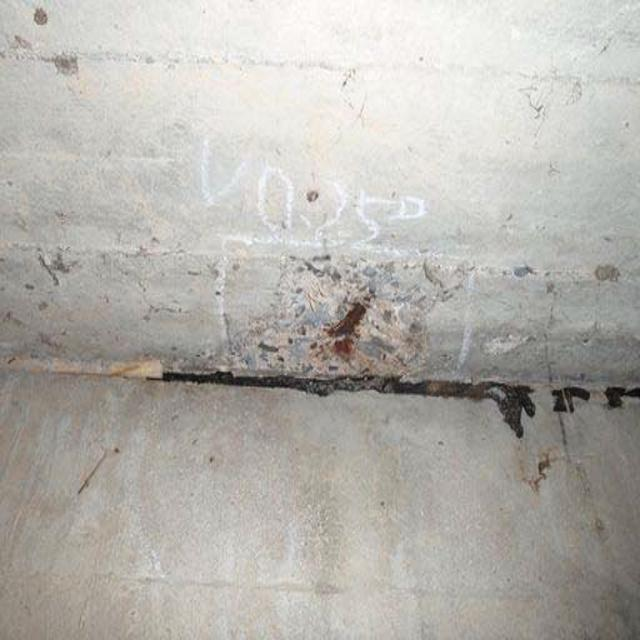spalling: (181, 236, 456, 394)
